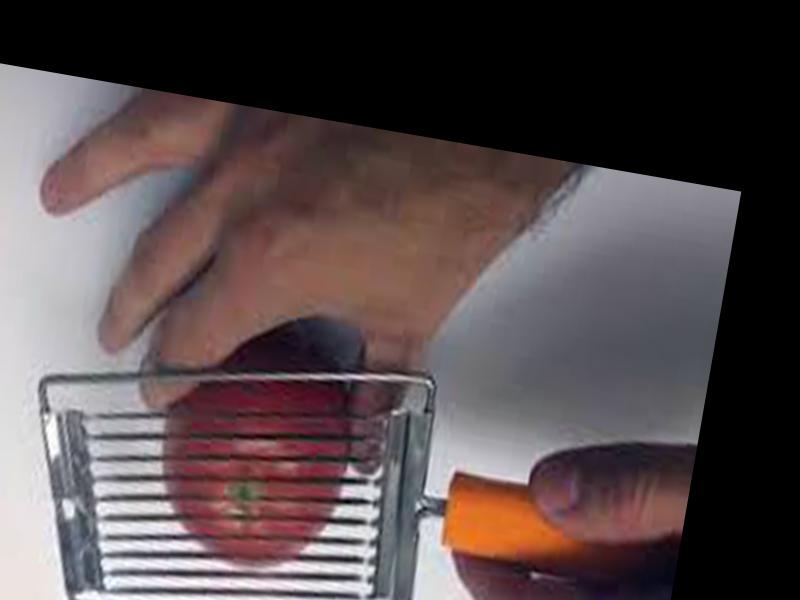Tomato: (149, 323, 369, 580)
